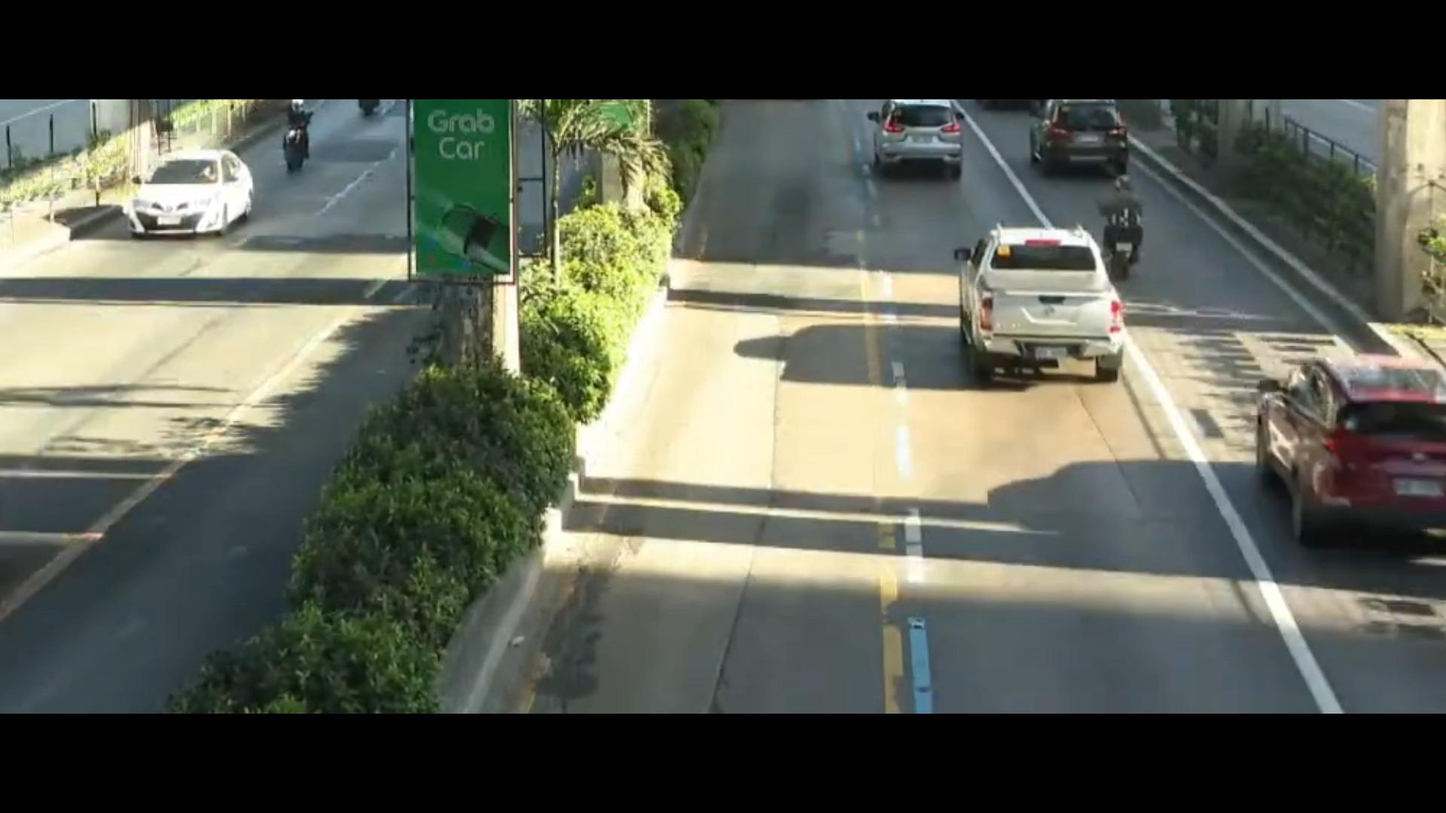Motorcycle: (1104, 168, 1147, 259), (265, 100, 307, 184)
Pickup: (936, 206, 1141, 386)
SUV: (1230, 294, 1446, 548), (858, 96, 968, 188), (1028, 91, 1141, 169)
Sedan: (97, 140, 281, 250)
